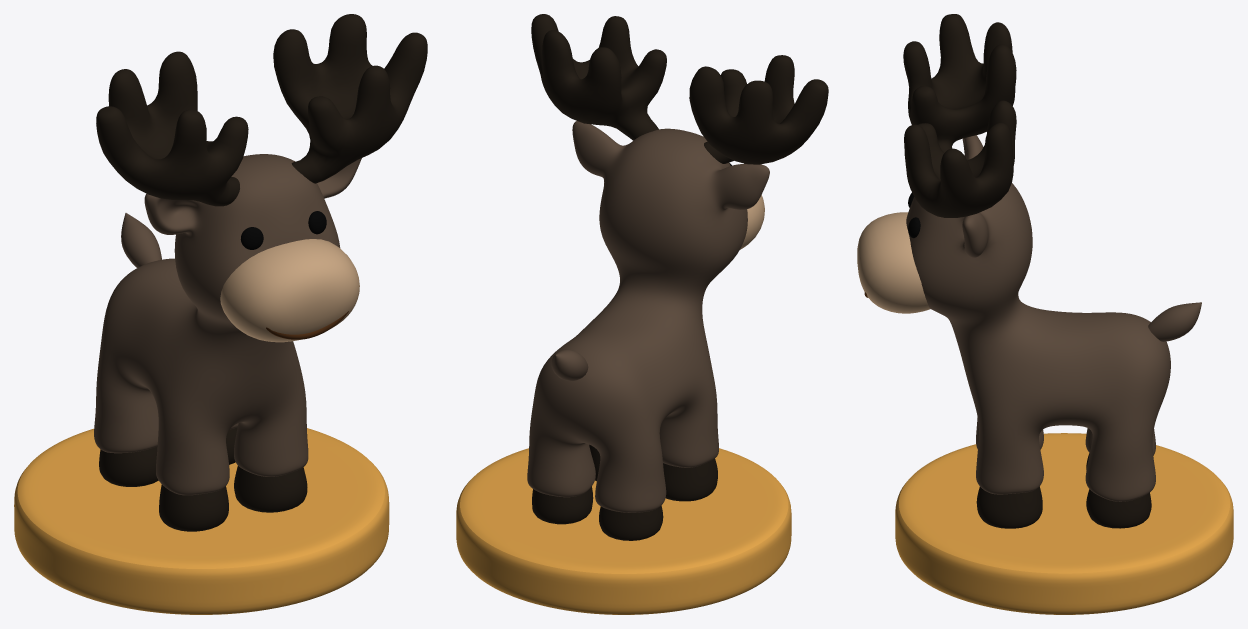
The model's file is cartoon_moose.glb.
3 renders of one model, left to right at view 1: azimuth 30°, elevation 25°; view 2: azimuth 150°, elevation 25°; view 3: azimuth 270°, elevation 25°, orthographic. The views are drawn at different scales.
Parts seen in each view (by area): view 1: Head, Stand, Horns, Muzzle, Hooves, Retopo_Tail, Eyes; view 2: Head, Stand, Horns, Hooves, Retopo_Tail, Muzzle; view 3: Head, Stand, Horns, Muzzle, Hooves, Retopo_Tail.
Boxes of the visible parts, x1,y1,x2,y2 form: Head: (94,154,361,495); Stand: (14,428,389,614); Horns: (96,14,427,206); Muzzle: (220,239,359,342); Hooves: (99,427,307,531); Retopo_Tail: (121,213,161,267); Eyes: (240,211,326,249); Head: (527,121,769,512); Stand: (456,448,791,614); Horns: (531,14,828,164); Hooves: (532,444,717,540); Retopo_Tail: (551,349,588,380); Muzzle: (740,195,764,249); Head: (906,135,1170,501); Stand: (895,433,1233,614); Horns: (903,14,1016,217); Muzzle: (857,212,930,313); Hooves: (976,453,1151,528); Retopo_Tail: (1148,302,1201,341).
Size of the model in its own units: 1 by 1.53 by 1.1.
